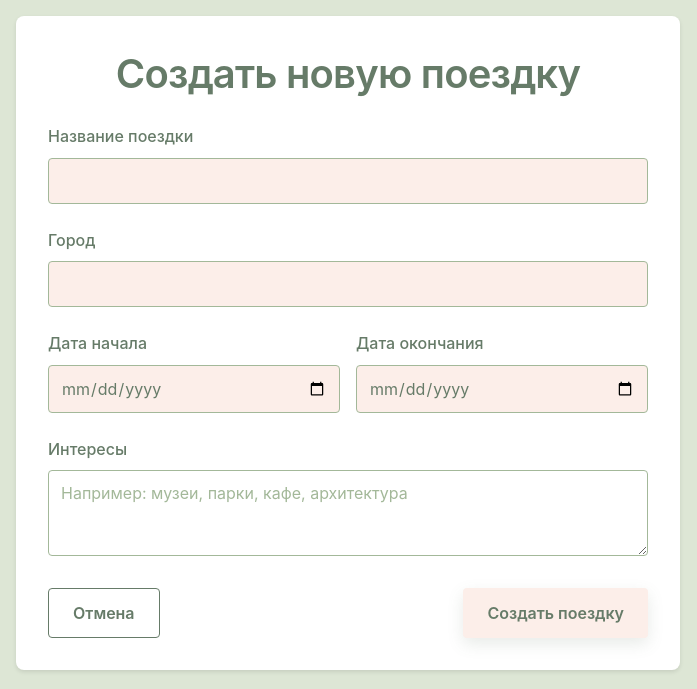
Test: CreateTripPage › shows creating state on submit
Type "Москва" into the field labelled "Название поездки" at (348, 181), box top-left (48, 158), bottom-right (648, 204)
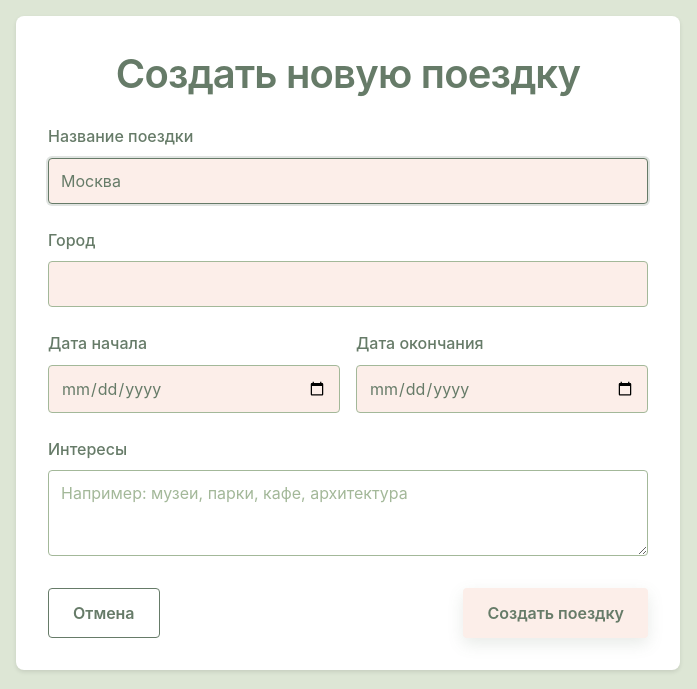
Type "Москва" into the field labelled "Город" at (348, 284), box top-left (48, 261), bottom-right (648, 307)
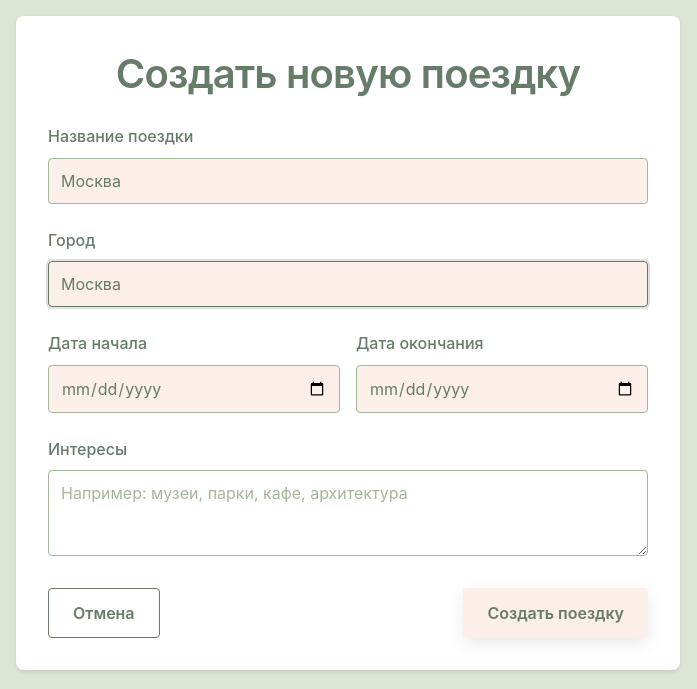
Type "2024-07-01" into the date field labelled "Дата начала" at (194, 389), box top-left (48, 365), bottom-right (340, 413)
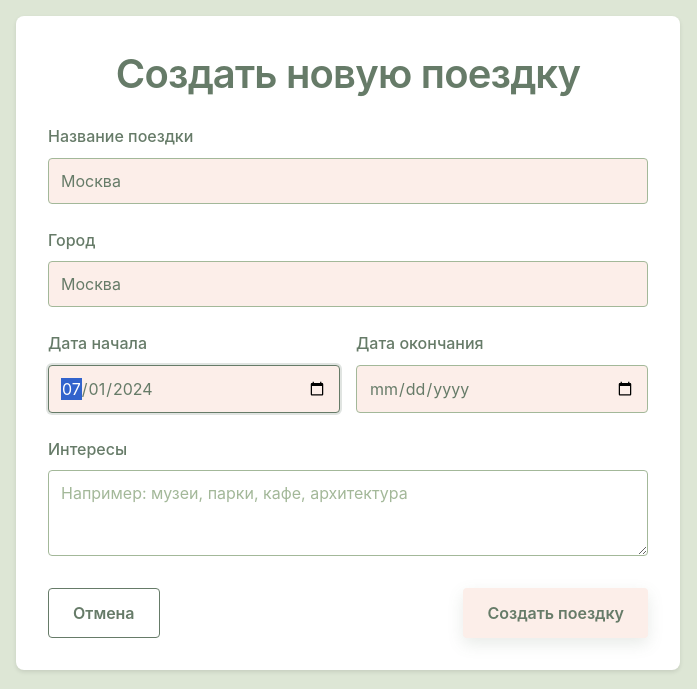
Type "2024-07-07" into the date field labelled "Дата окончания" at (502, 389), box top-left (356, 365), bottom-right (648, 413)
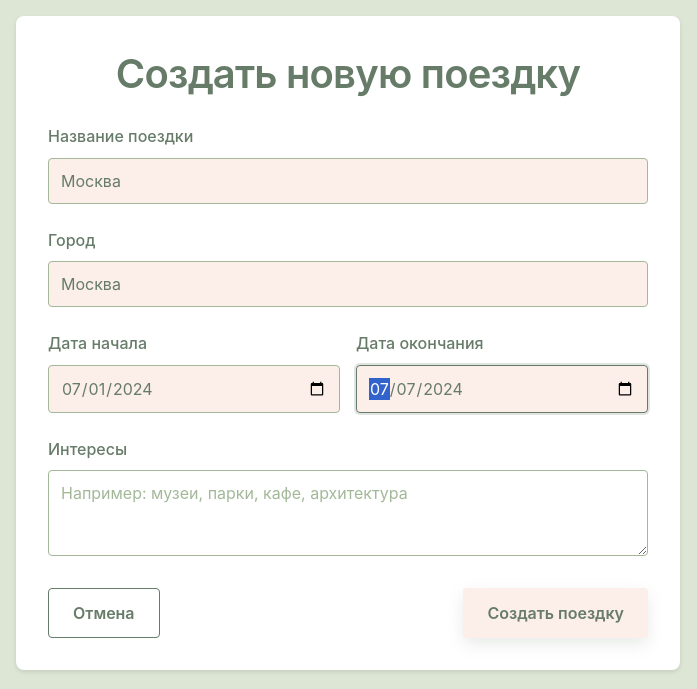
Click the button "Создать поездку" at (556, 613), box top-left (463, 588), bottom-right (648, 638)
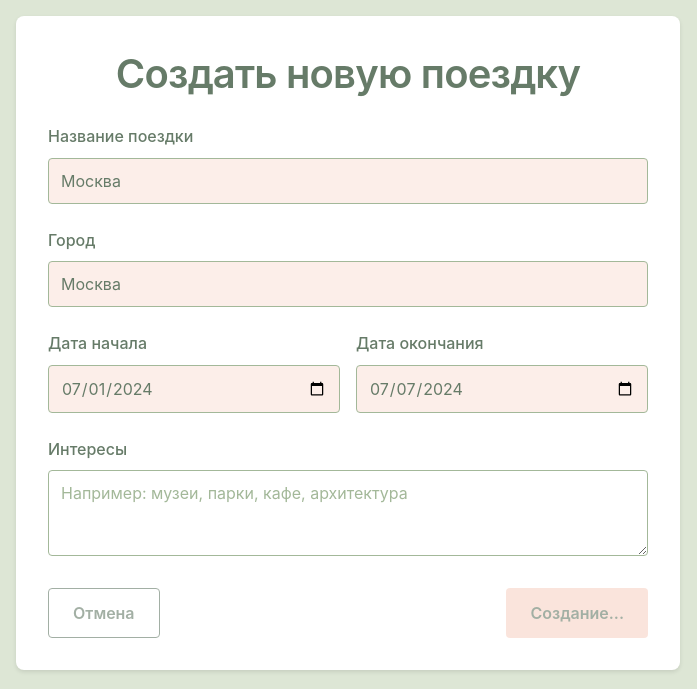
Expected: the button "Создание..." is disabled, top-left (506, 588), bottom-right (648, 638)
